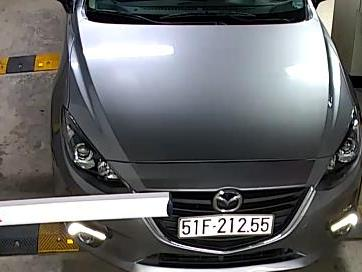number: (178, 215, 274, 238)
